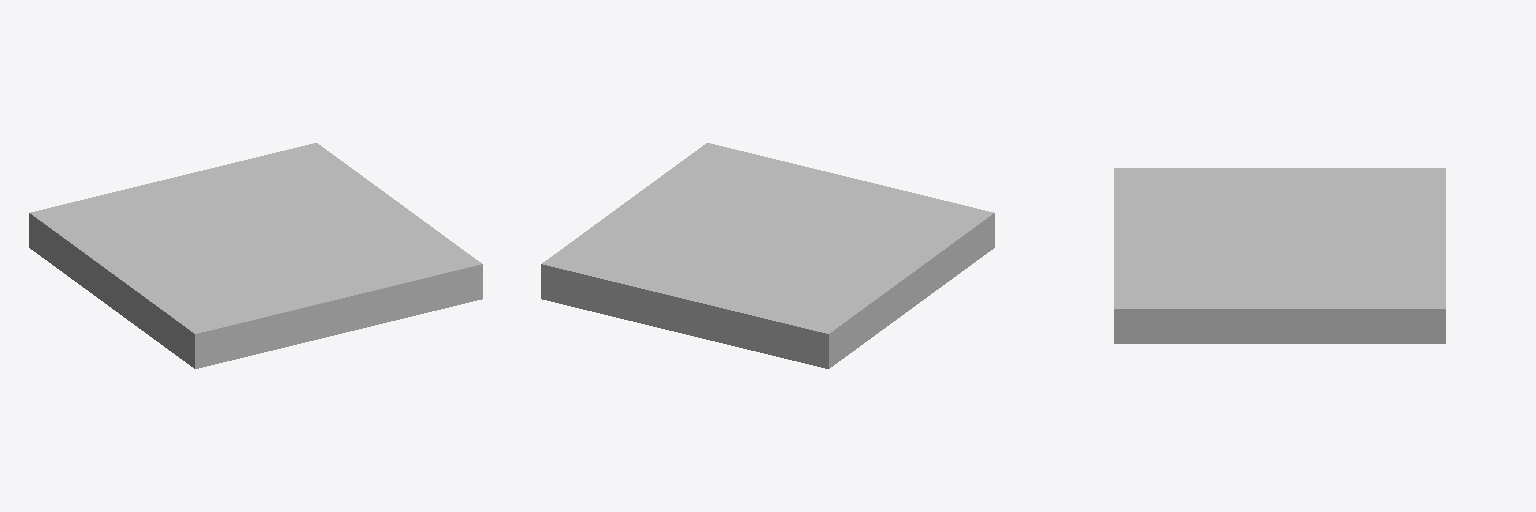
File: tresh(Layar Two 8).obj
3 renders of one model, left to right at view 1: azimuth 30°, elevation 25°; view 2: azimuth 150°, elevation 25°; view 3: azimuth 270°, elevation 25°, orthographic.
Parts seen in each view (by area): view 1: tresh(Layar Two 8); view 2: tresh(Layar Two 8); view 3: tresh(Layar Two 8).
Part boxes in pixels (left/top/right/bottom): tresh(Layar Two 8): left=29, top=143, right=482, bottom=368; tresh(Layar Two 8): left=541, top=143, right=994, bottom=368; tresh(Layar Two 8): left=1114, top=168, right=1445, bottom=343.
Size of the model in its own units: 3 by 0.35 by 3.